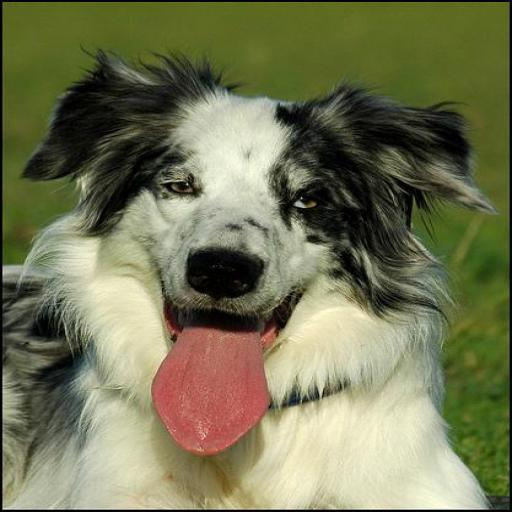dog_face: (26, 46, 474, 405)
